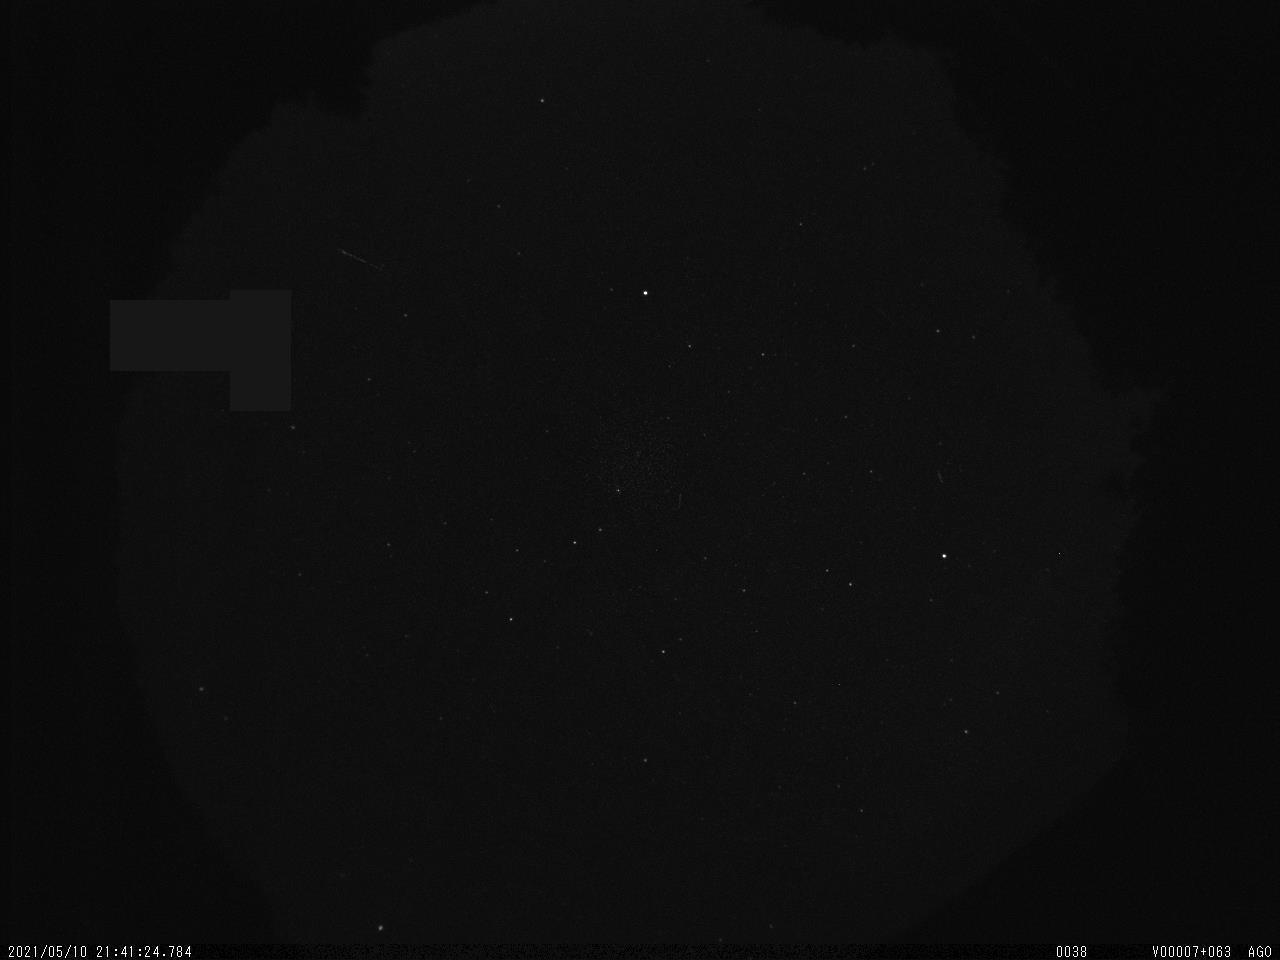Meteor: (333, 243, 384, 274)
